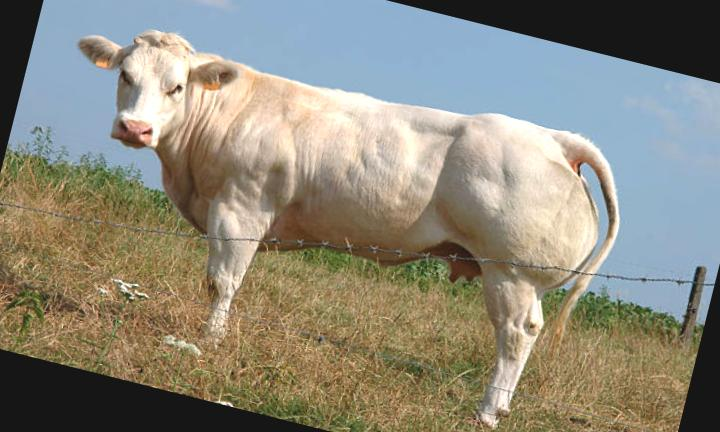Charolais: (78, 30, 620, 427)
